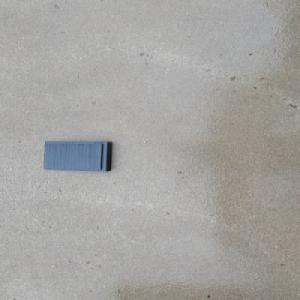PlasticPart: (42, 140, 113, 172)
